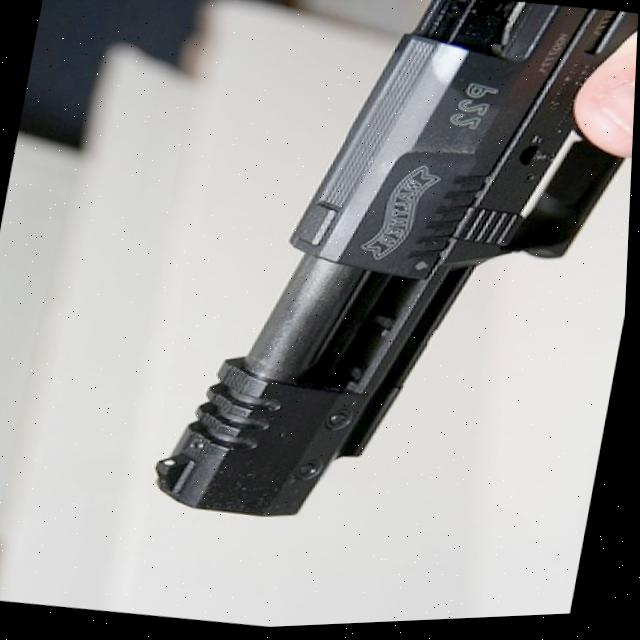pistol: (142, 0, 640, 571)
